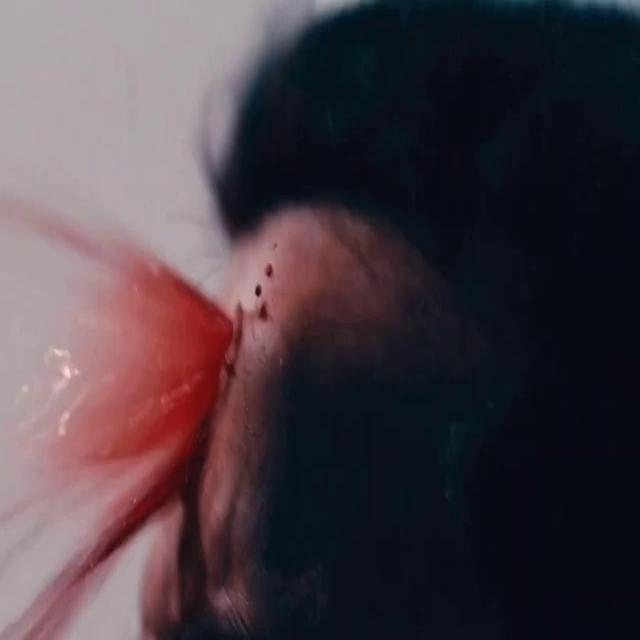flood: (5, 176, 242, 548)
